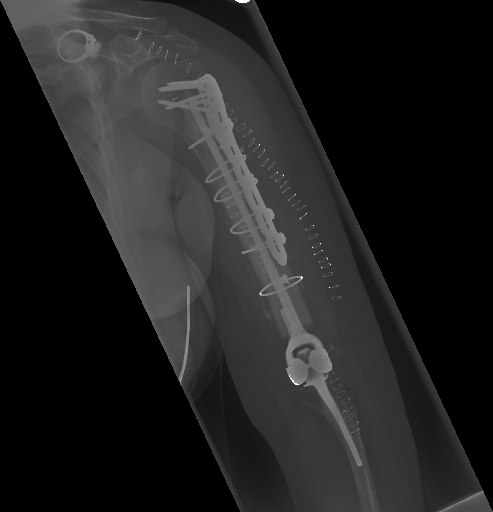implant: (163, 70, 305, 304)
